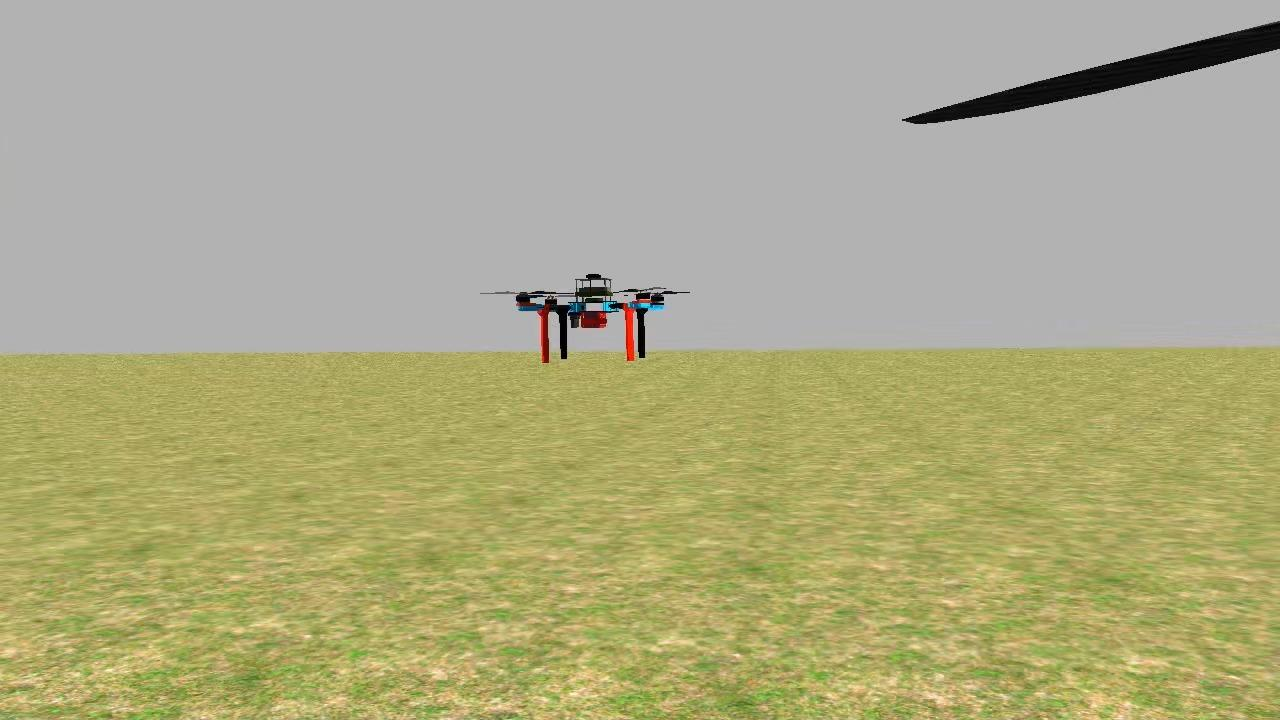UAV: (512, 264, 682, 382)
